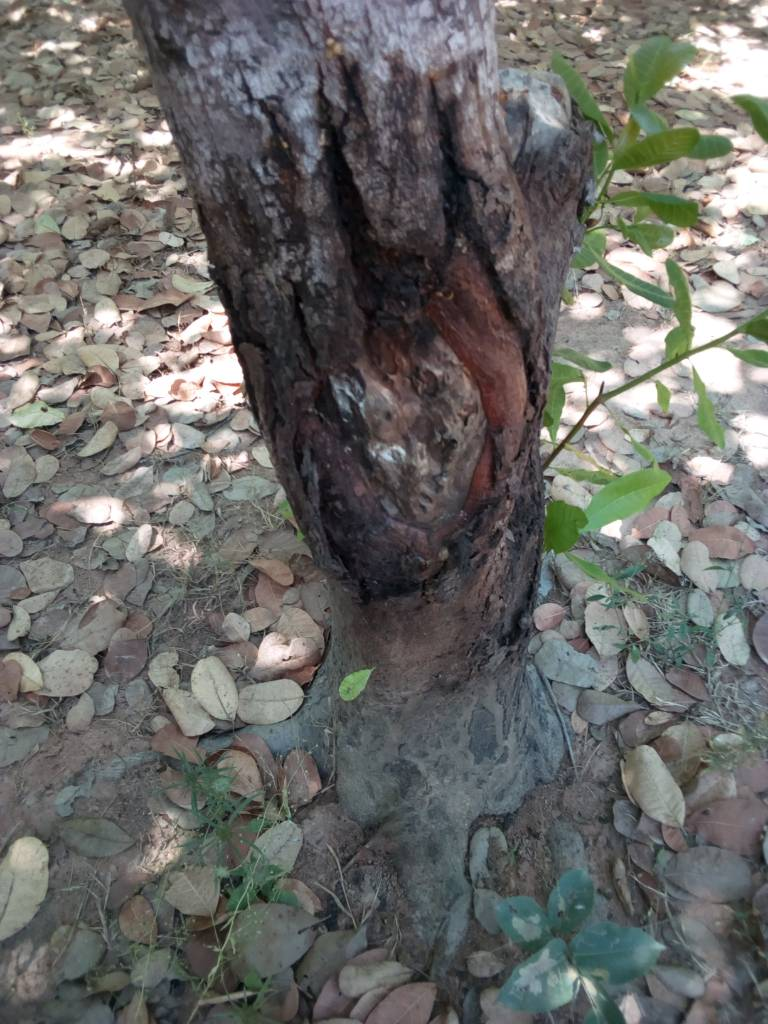Termites: (268, 119, 555, 696)
